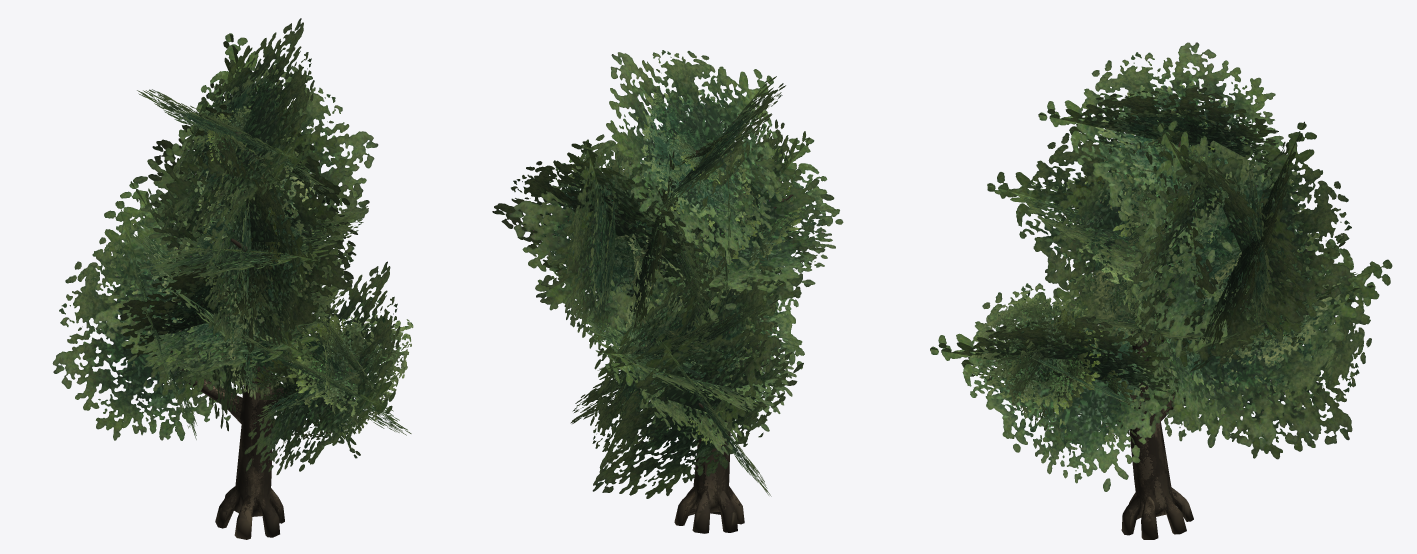
The model's file is Tree_Finished.fbx.
3 renders of one model, left to right at view 1: azimuth 30°, elevation 25°; view 2: azimuth 150°, elevation 25°; view 3: azimuth 270°, elevation 25°, orthographic.
Visible parts, largest first — view 1: Cylinder|Plane.001|Dupli|0.002, Cylinder.001; view 2: Cylinder|Plane.001|Dupli|0.002, Cylinder.001; view 3: Cylinder|Plane.001|Dupli|0.002, Cylinder.001.
Boxes of the visible parts, x1,y1,x2,y2 form: Cylinder|Plane.001|Dupli|0.002: (52,18,413,474); Cylinder.001: (170,132,348,539); Cylinder|Plane.001|Dupli|0.002: (492,50,843,498); Cylinder.001: (674,150,793,533); Cylinder|Plane.001|Dupli|0.002: (930,42,1392,491); Cylinder.001: (1062,141,1193,539).
Bounding box in the file's own units: 4000 × 5967 × 5324.
